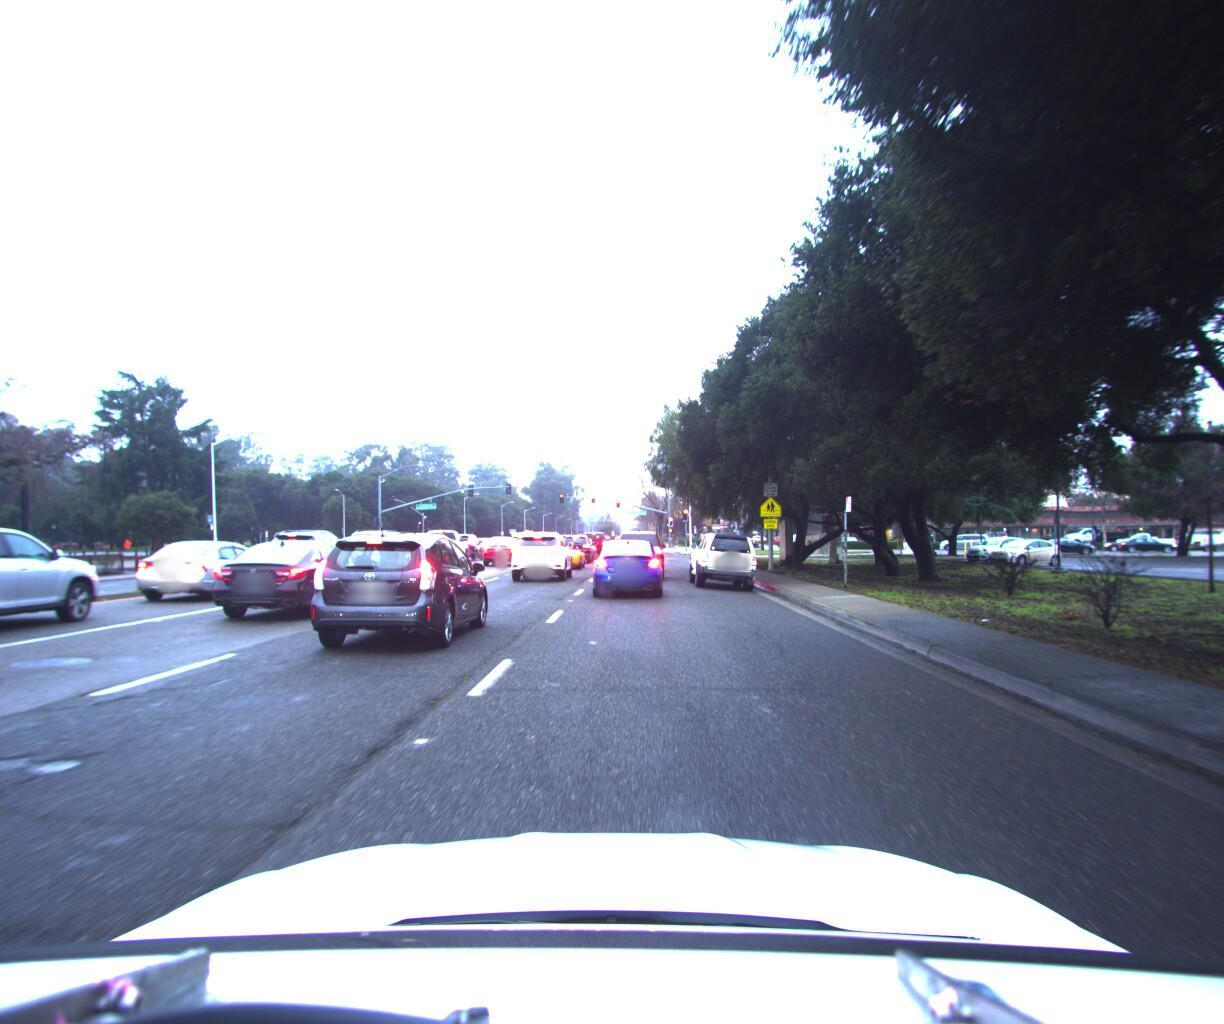car: (297, 527, 494, 653), (0, 514, 114, 657), (204, 533, 384, 623), (131, 535, 287, 604), (261, 525, 366, 586), (384, 524, 468, 582), (593, 534, 664, 599), (687, 525, 758, 585), (340, 524, 419, 575), (509, 526, 579, 580), (408, 523, 476, 567), (612, 524, 664, 576), (479, 533, 529, 564), (547, 533, 592, 565), (444, 529, 485, 558), (560, 529, 596, 559)
